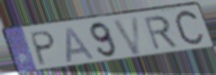9: (89, 21, 118, 60)
A: (65, 26, 97, 64)
C: (173, 8, 207, 50)
P: (29, 29, 57, 68)
R: (142, 14, 180, 52)
V: (110, 14, 143, 57)
